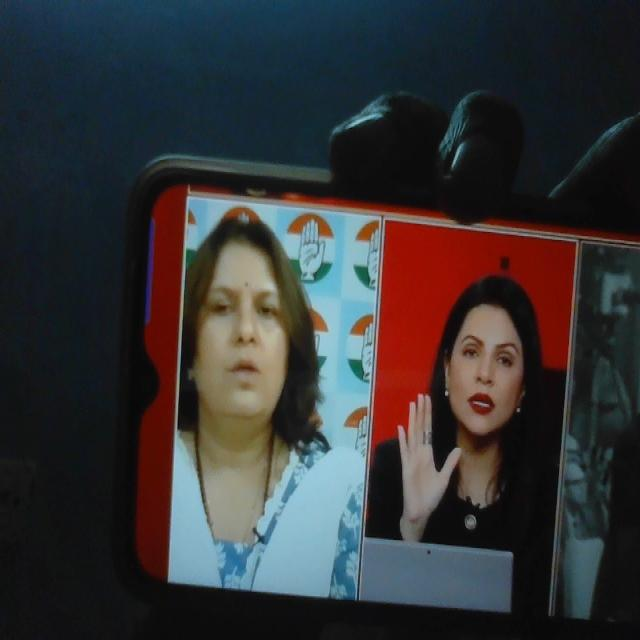fake: (183, 204, 303, 431), (438, 251, 544, 452)
